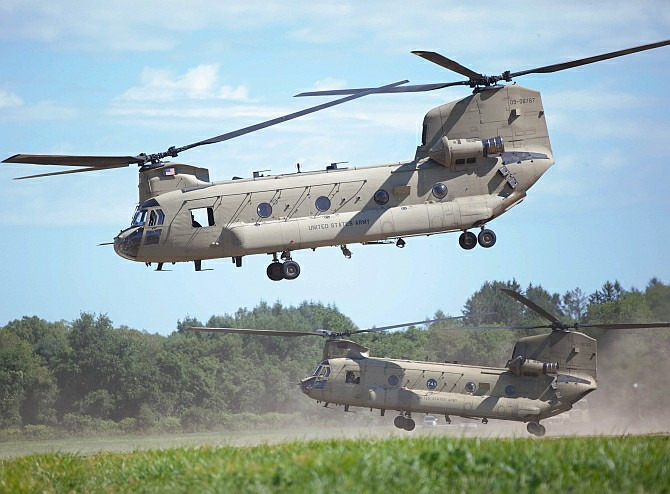chinook: (39, 48, 669, 276), (215, 301, 660, 433)
